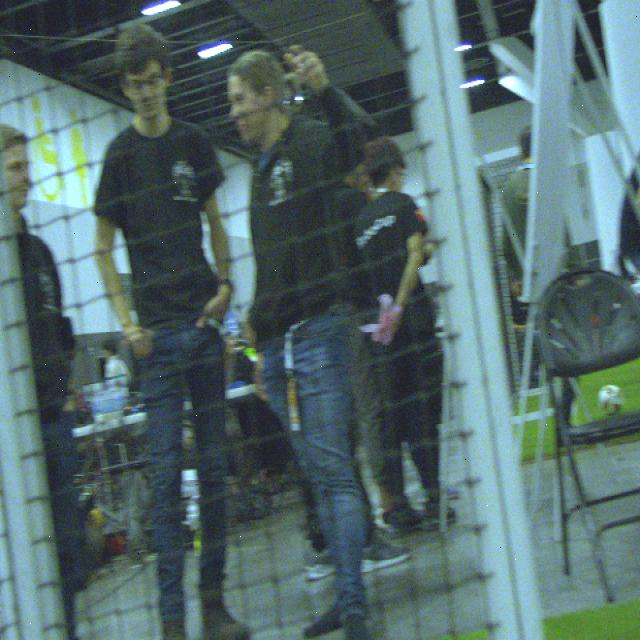goalpost: (396, 0, 544, 637)
